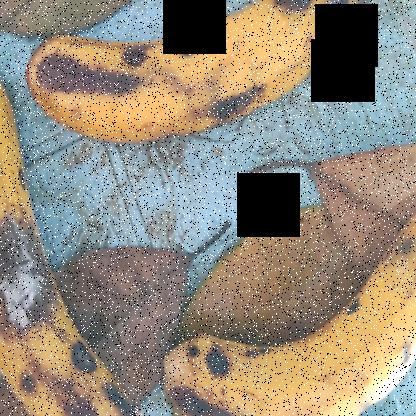overripe: (31, 1, 402, 154), (0, 56, 147, 415)
ripe: (161, 197, 415, 415)
rotten: (0, 199, 103, 361)
